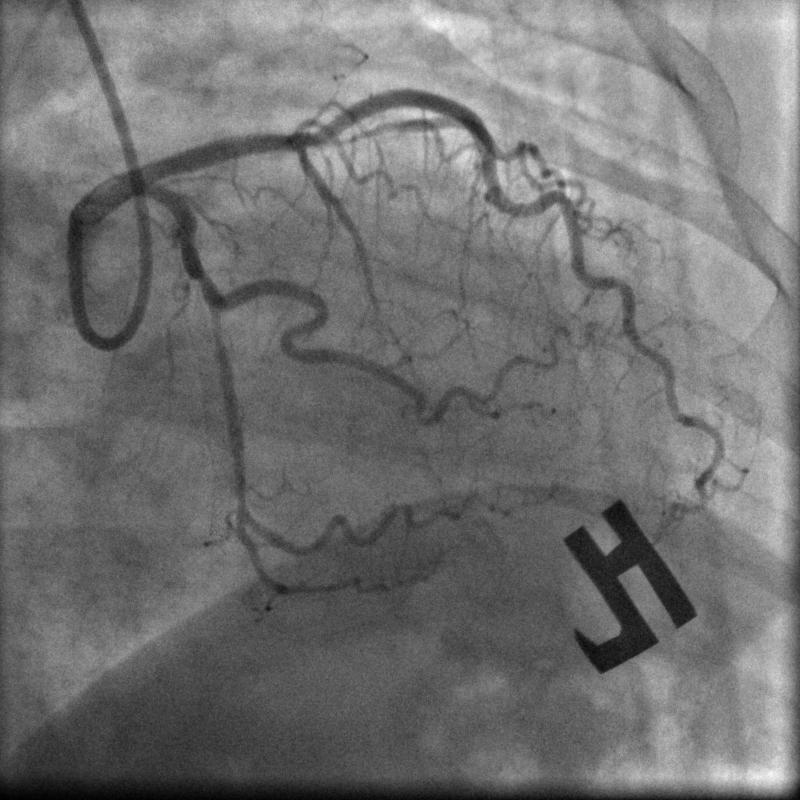Stenosis: (178, 224, 226, 304)
